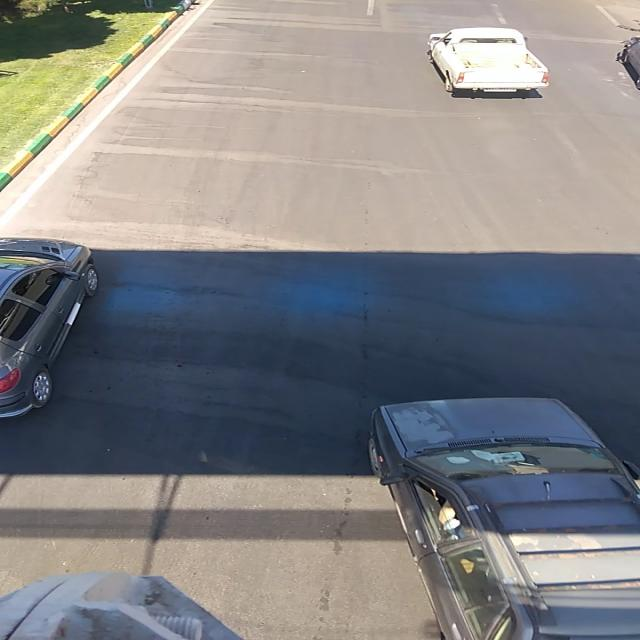car: (358, 400, 638, 564), (1, 238, 104, 418), (422, 26, 548, 94)
